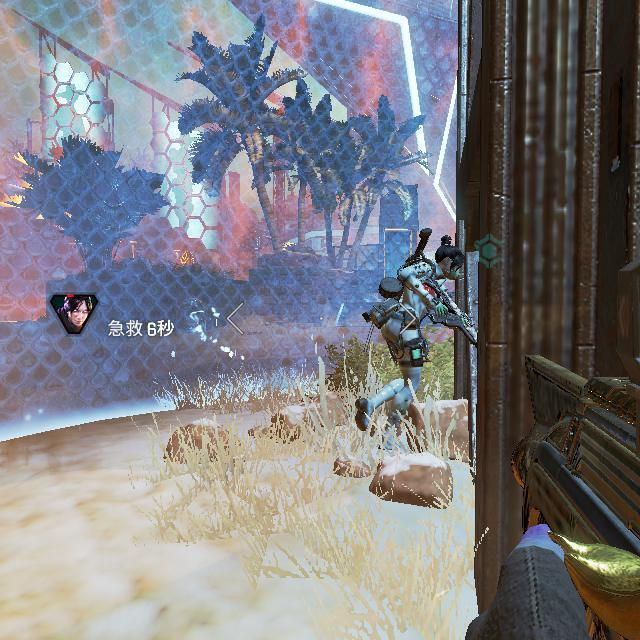avatar: (355, 234, 466, 452)
